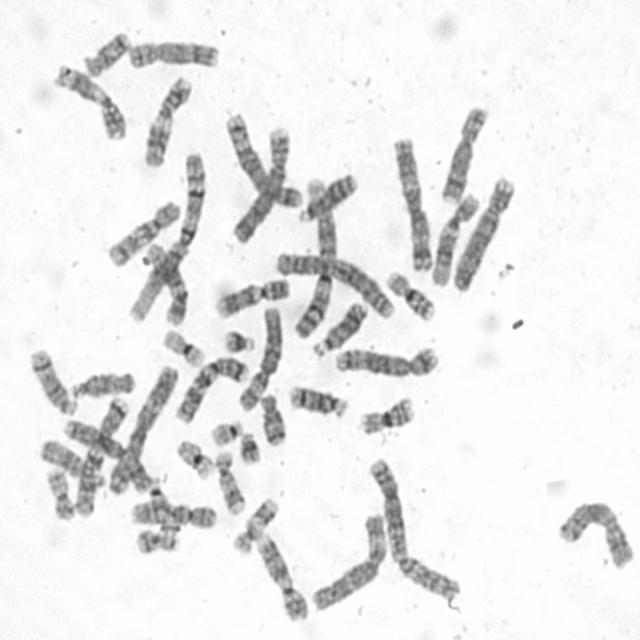A1: (124, 148, 208, 326), (289, 171, 338, 342)
A2: (365, 455, 462, 601), (272, 246, 398, 322)
A3: (106, 362, 180, 496), (389, 132, 435, 274)
B4: (449, 173, 518, 294), (228, 121, 292, 246)
B5: (222, 108, 304, 211), (332, 343, 441, 379)
C10: (103, 195, 184, 270), (127, 496, 219, 530)
C11: (50, 60, 128, 142), (141, 73, 195, 168)
C12: (428, 190, 482, 290), (141, 238, 189, 328)
C6: (309, 508, 389, 612), (235, 302, 285, 414)
C7: (71, 392, 132, 522), (173, 352, 251, 424)
C8: (438, 102, 490, 205), (125, 37, 221, 71)
C9: (254, 530, 309, 623), (211, 274, 292, 319)
D13: (309, 298, 370, 358), (294, 168, 359, 223)
D14: (25, 343, 77, 418), (286, 382, 350, 421)
D15: (37, 436, 106, 488), (68, 367, 138, 400)
E16: (383, 266, 437, 323), (355, 391, 416, 437)
E17: (228, 494, 281, 556), (212, 448, 247, 516)
E18: (80, 27, 132, 79), (256, 389, 288, 448)
F19: (160, 325, 208, 369), (173, 434, 216, 482)
F20: (43, 464, 76, 522), (132, 524, 180, 554)
G21: (220, 326, 256, 354), (236, 428, 262, 466)
G22: (144, 475, 174, 528), (208, 416, 245, 448)
X: (61, 413, 155, 495), (553, 494, 635, 571)
